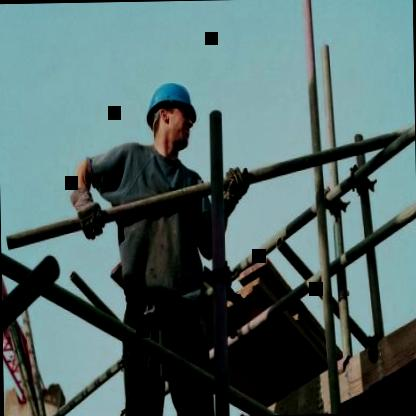helmet: (143, 68, 205, 158)
